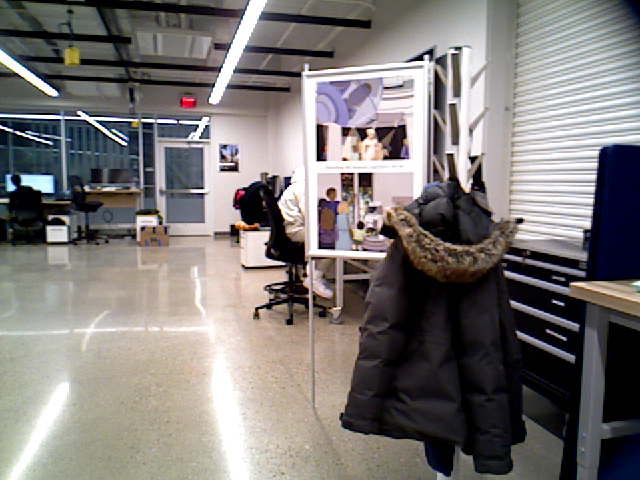painting3: (217, 143, 239, 173)
